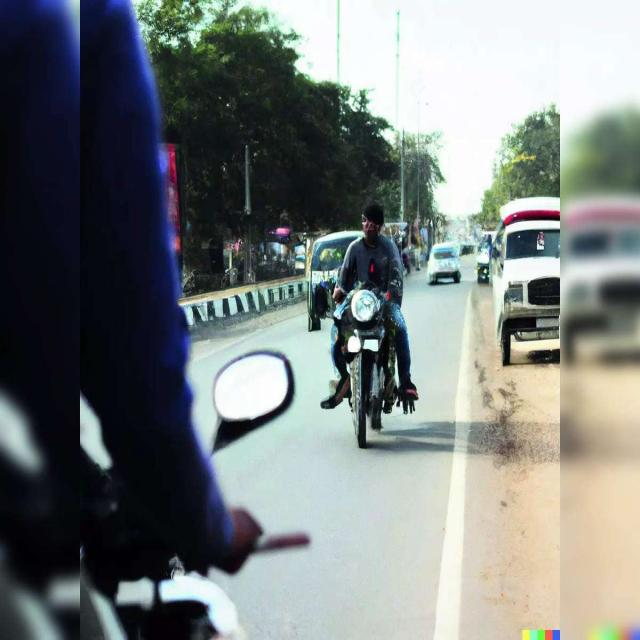motorcycle: (321, 203, 418, 446)
truck: (490, 198, 560, 363)
